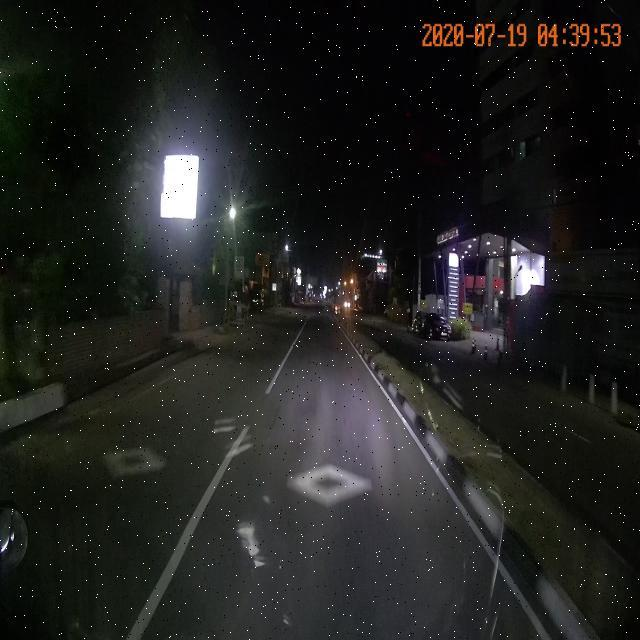diamond: (196, 461, 460, 502)
